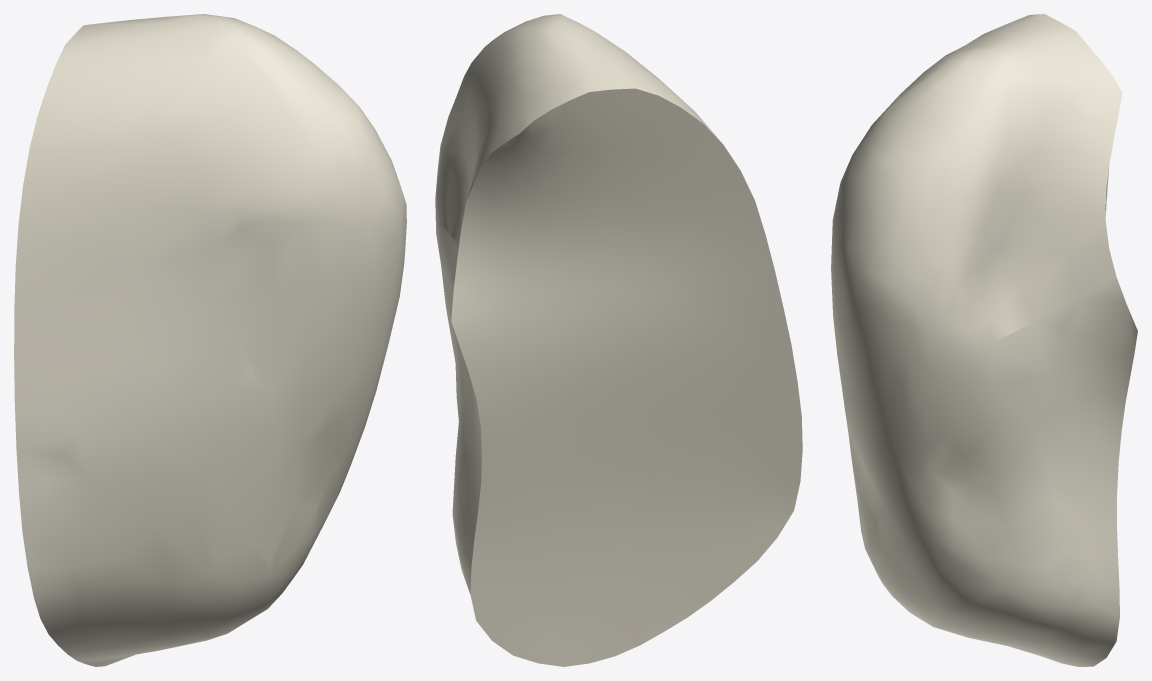
Rendered from fma39722_mm1898.glb.
The picture shows the model from 3 angles, left to right: view 1: azimuth 30°, elevation 25°; view 2: azimuth 150°, elevation 25°; view 3: azimuth 270°, elevation 25°; orthographic projection. The views are drawn at different scales.
Visible parts, largest first — view 1: FMA39722_MM1898; view 2: FMA39722_MM1898; view 3: FMA39722_MM1898.
Boxes of the visible parts, x1,y1,x2,y2 form: FMA39722_MM1898: (14, 14, 406, 666); FMA39722_MM1898: (435, 14, 802, 666); FMA39722_MM1898: (831, 14, 1137, 666).
Bounding box in the file's own units: 0.00677 × 0.0111 × 0.00485.
